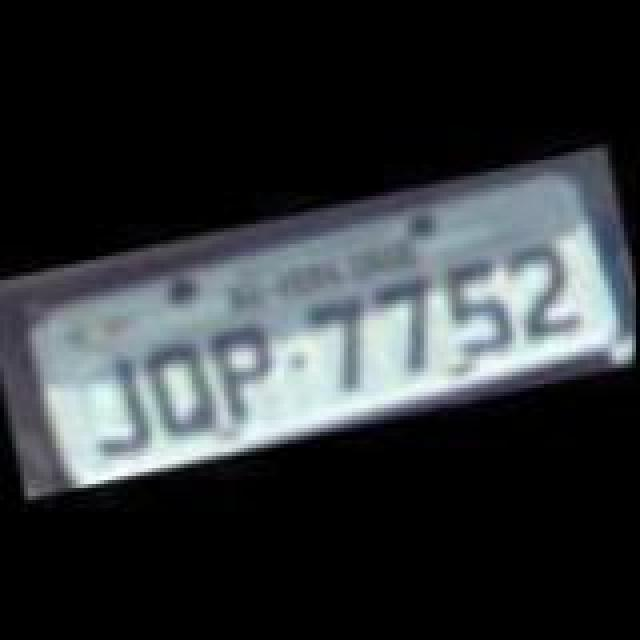2: (498, 232, 590, 344)
5: (436, 252, 524, 364)
7: (298, 292, 382, 400), (372, 270, 452, 378)
J: (76, 346, 160, 462)
P: (212, 312, 292, 424)
Q: (138, 334, 234, 450)
